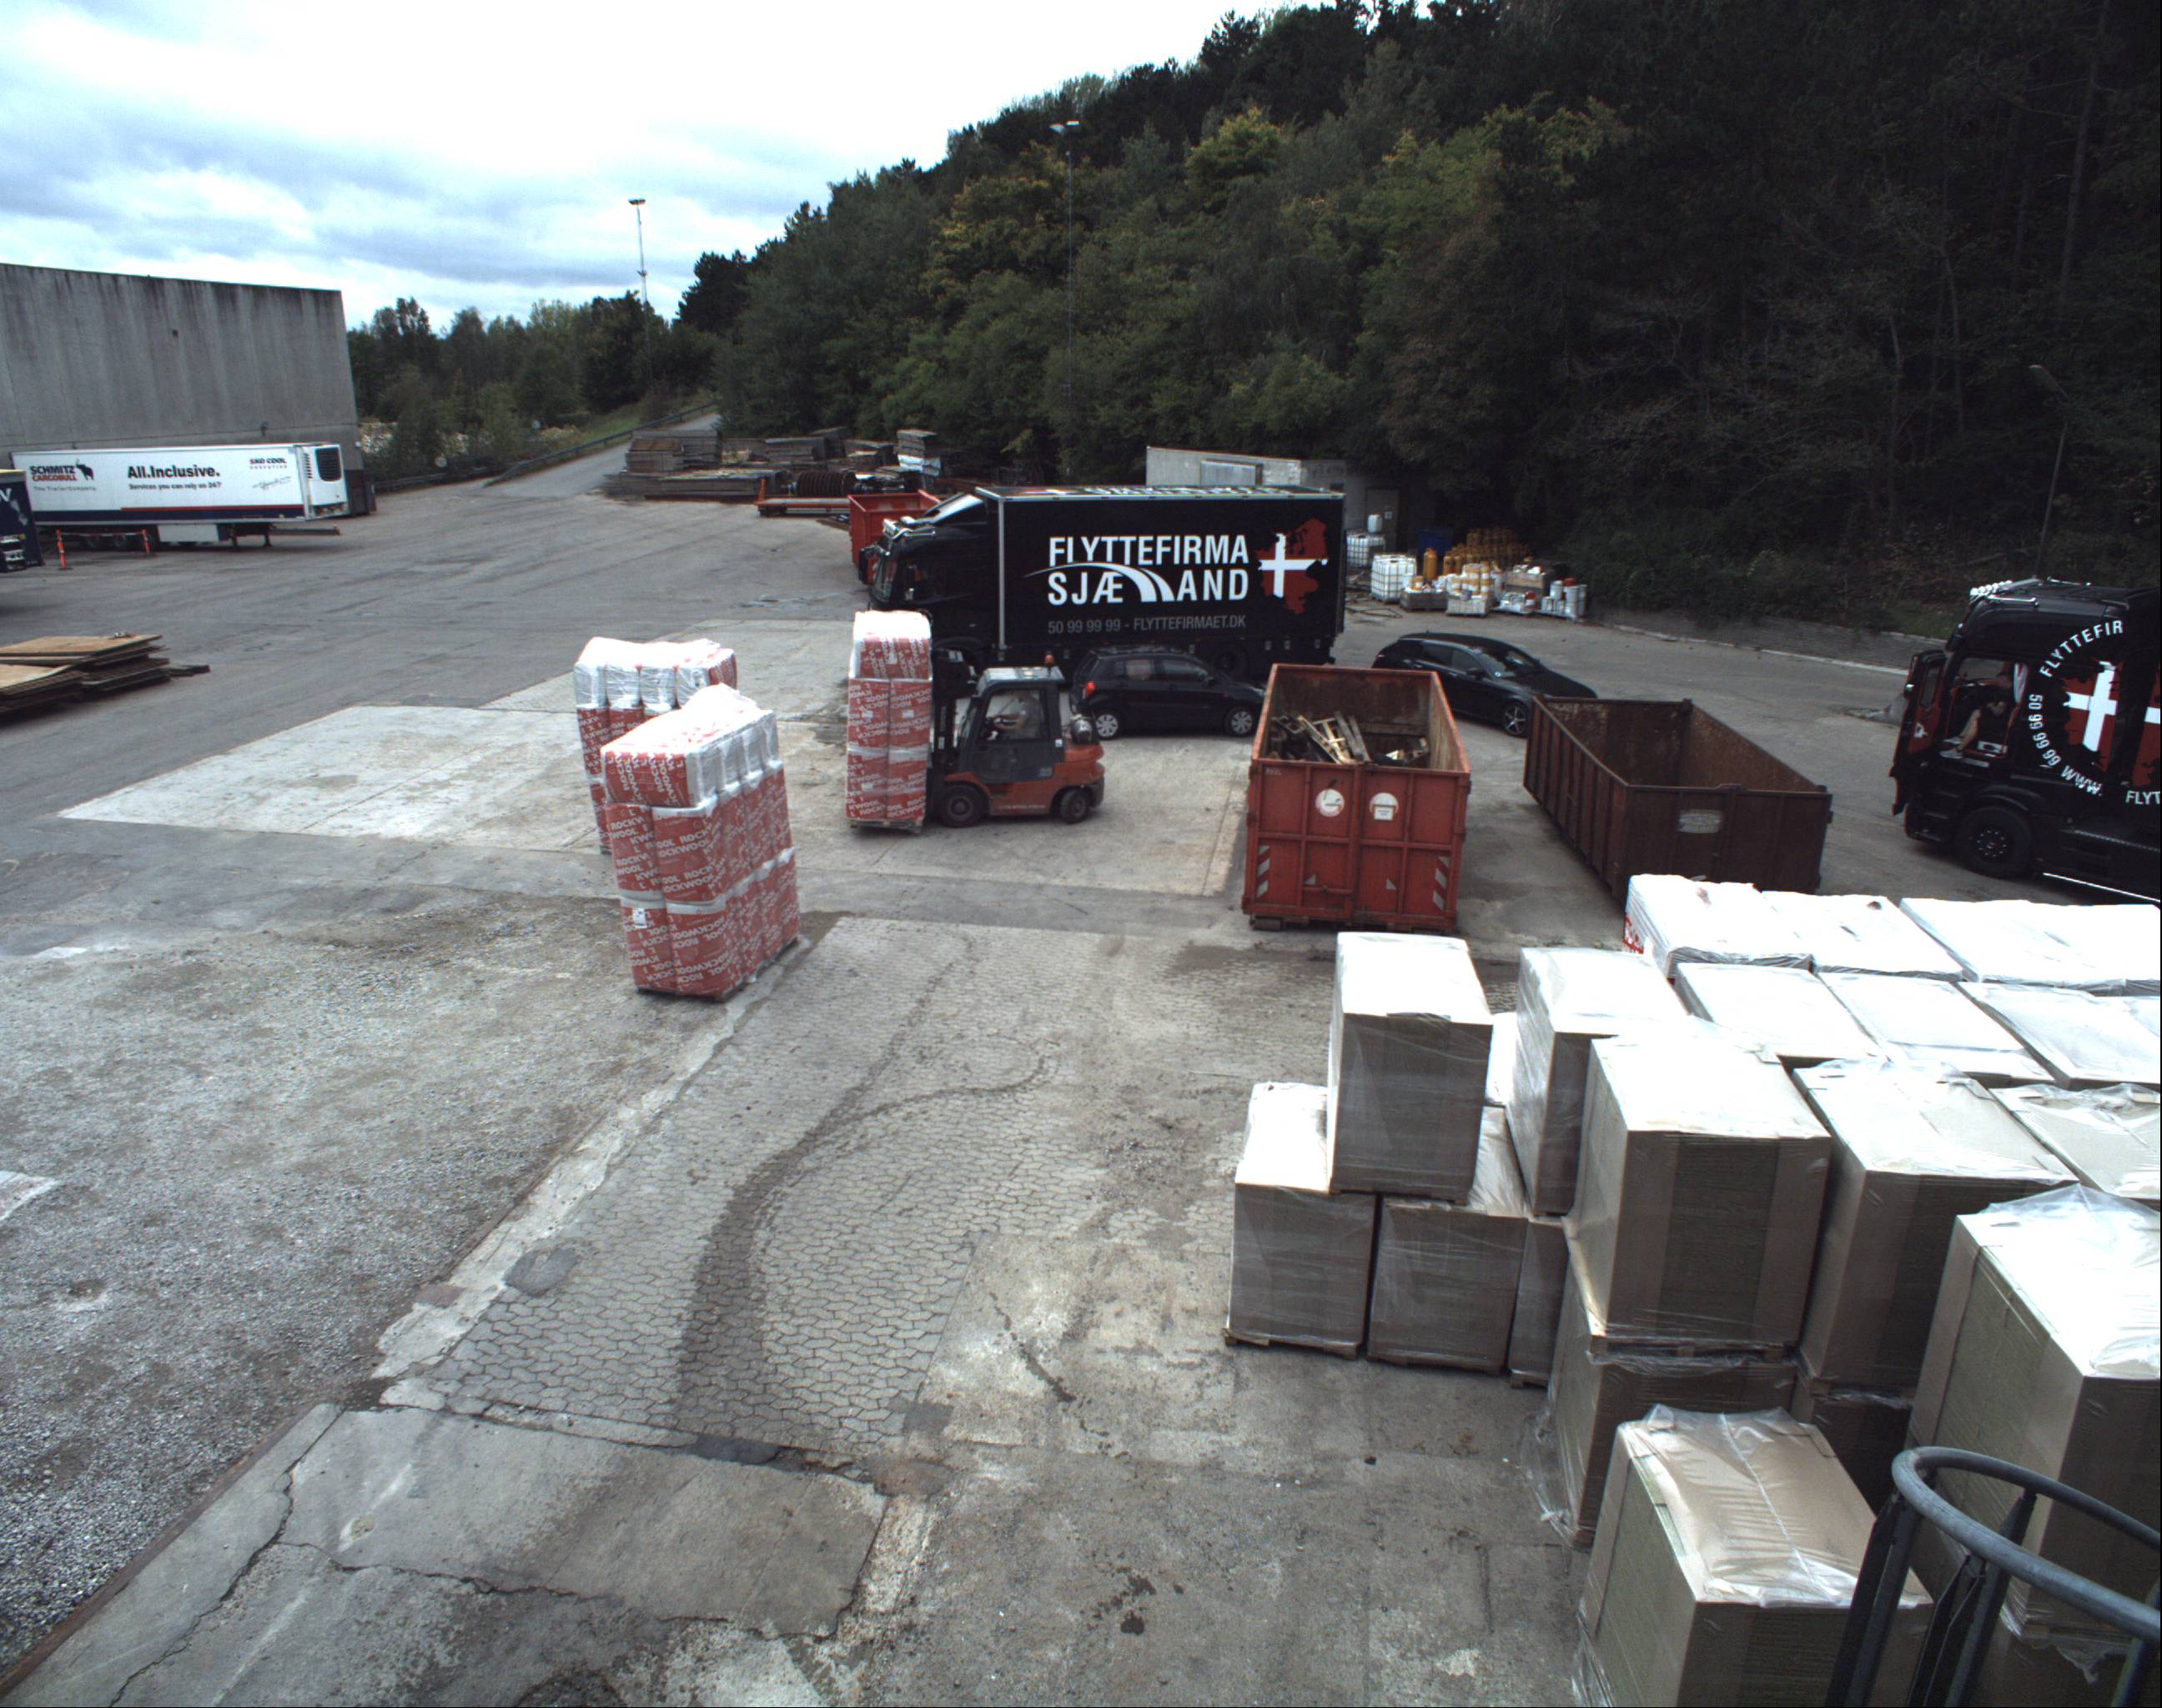rockwool_batts: (593, 688, 795, 1002), (549, 614, 741, 736), (834, 593, 927, 820)
